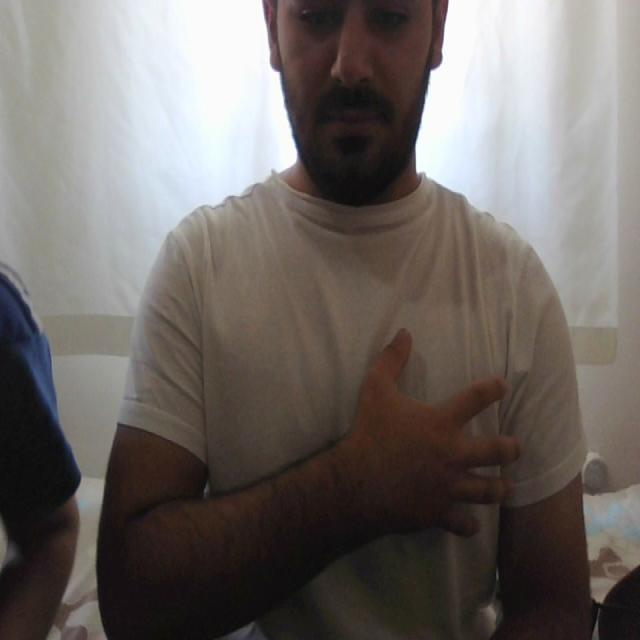Anne: (194, 320, 533, 571)
